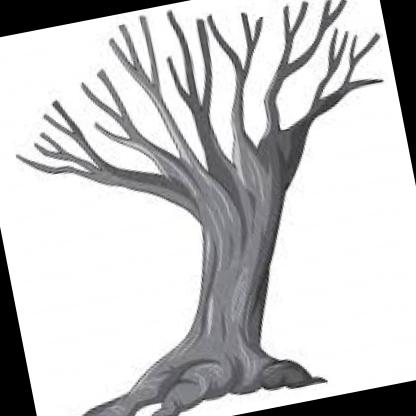branch_cut: (0, 0, 404, 245)
root_only: (37, 322, 330, 416)
trunk_reflex: (167, 216, 300, 338)
